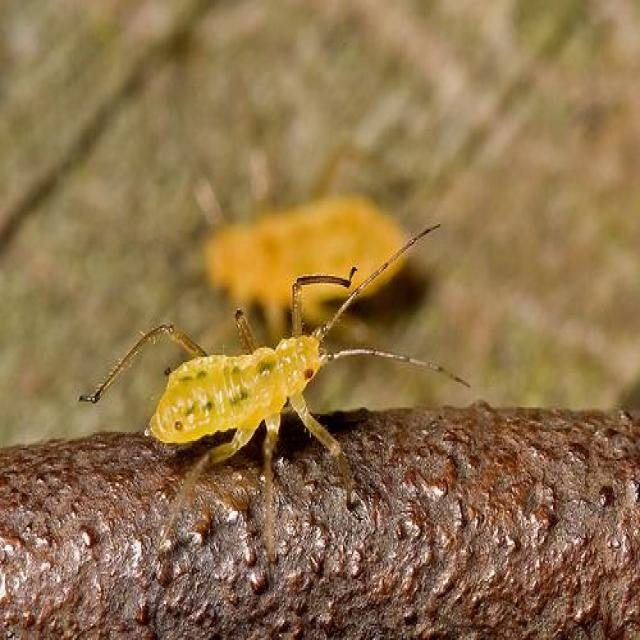Aphids: (80, 279, 444, 522)
